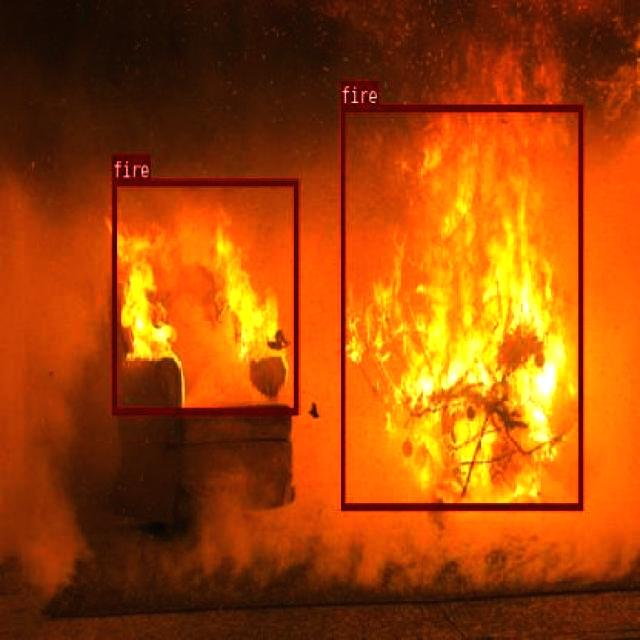fire: (340, 104, 582, 508), (111, 178, 297, 414)
